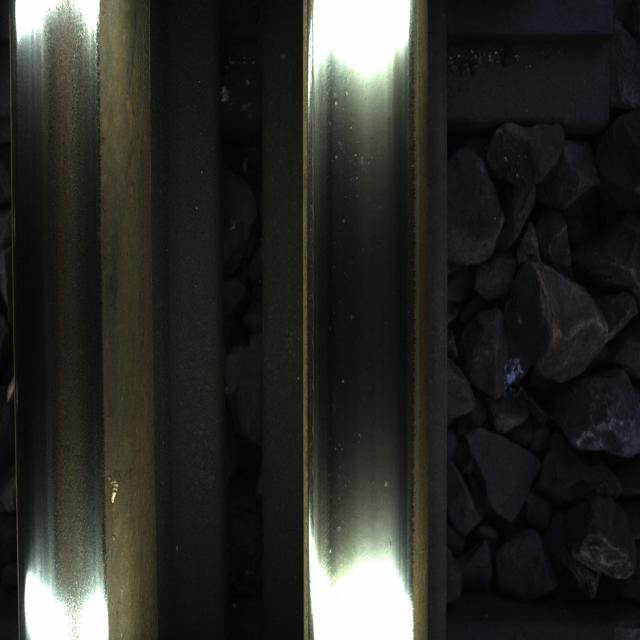break: (320, 25, 405, 600)
normal: (25, 0, 95, 590)
